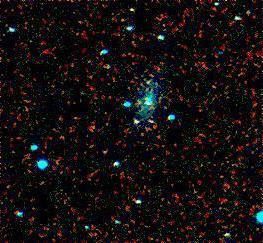star: (137, 63, 167, 93)
